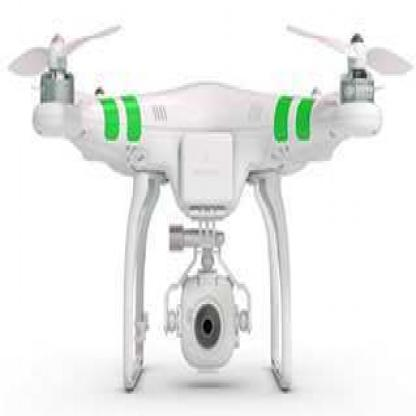drone: (8, 23, 415, 233)
